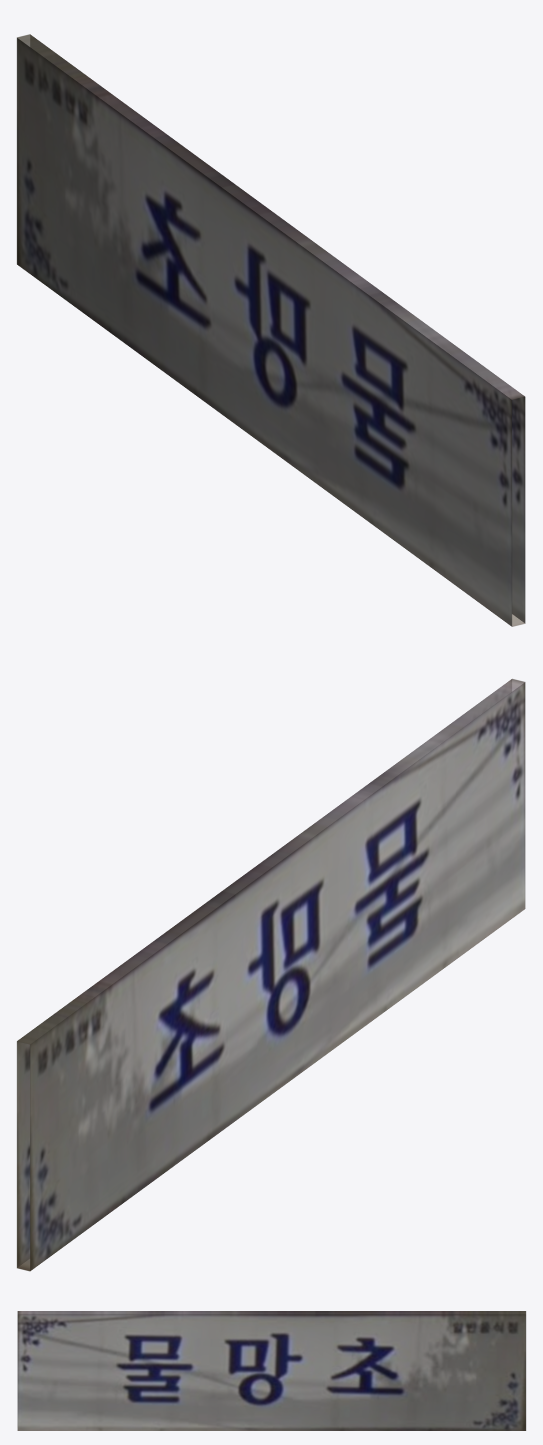
File: storesign1.glb
3 views of the same model, one above another, from view 1: azimuth 30°, elevation 25°; view 2: azimuth 150°, elevation 25°; view 3: azimuth 270°, elevation 25° (orthographic). The views are drawn at different scales.
Parts seen in each view (by area): view 1: storesign10; view 2: storesign10; view 3: storesign10.
Part boxes in pixels (bbox=[...]): storesign10: bbox=[17, 34, 525, 626]; storesign10: bbox=[17, 679, 525, 1271]; storesign10: bbox=[17, 1311, 526, 1430].
Bounding box in the file's own units: 0.0568 × 1 × 3.72.
1 material, 1 textured.
